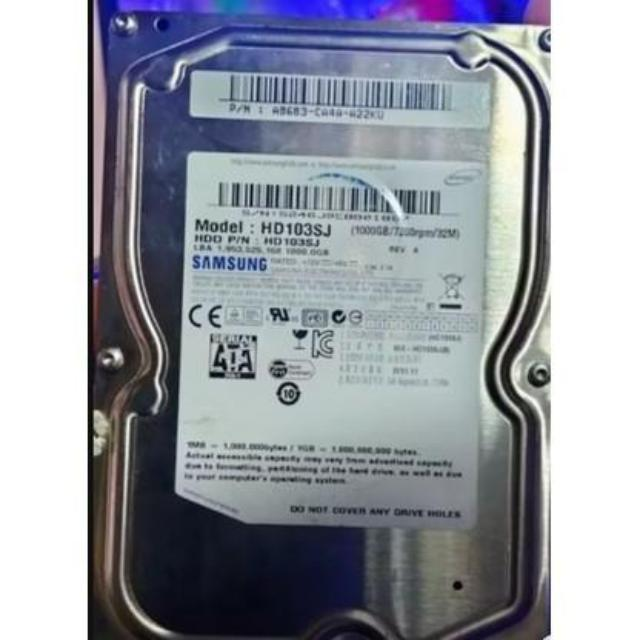DISK: (95, 11, 547, 640)
